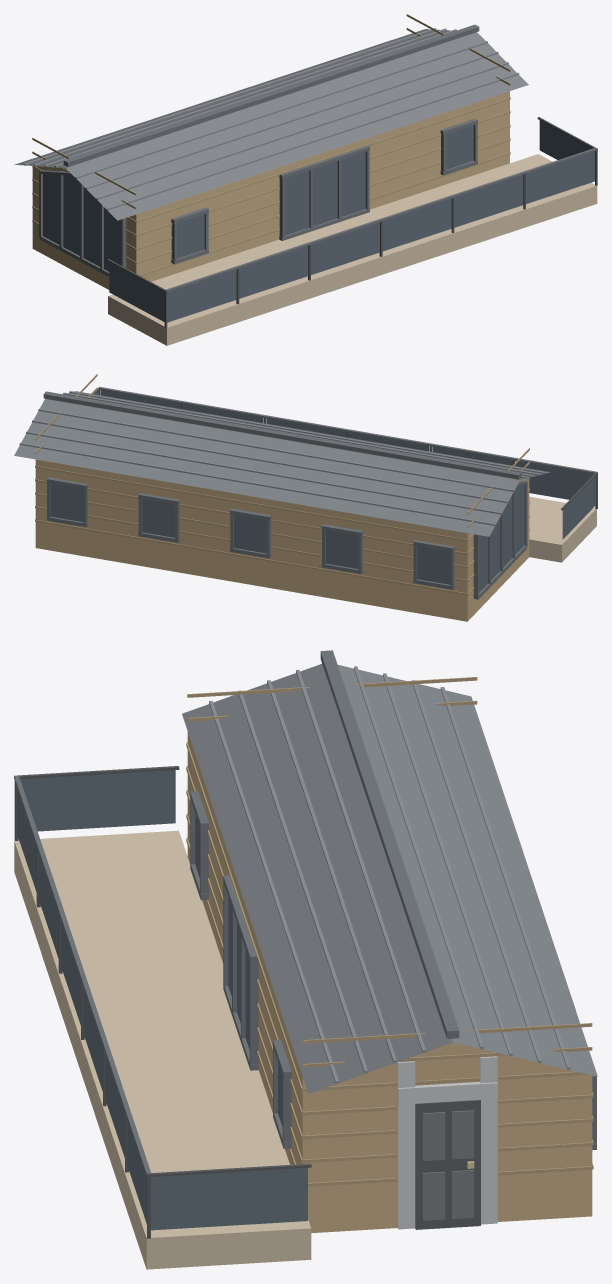
3 renders of one model, top to bottom at view 1: azimuth 30°, elevation 25°; view 2: azimuth 150°, elevation 25°; view 3: azimuth 270°, elevation 25°, orthographic. The views are drawn at different scales.
Visible parts, largest first — view 1: slate, door_wood, larch, slate_dk, slate_lt, window_glass_014, door_wood_p, window_glass_002, window_glass_005, window_glass_001, window_glass_004, window_glass_003 (+9 smaller); view 2: door_wood, slate, slate_dk, slate_lt, door_wood_p, larch, window_glass_014, window_glass_001, window_glass_015, window_glass_018, window_glass_016, window_glass_017 (+8 smaller); view 3: slate, larch, door_wood, slate_dk, slate_lt, door_wood_p, window_glass_008, window_glass_007, stone_band, door_dark_p, door_dark, pipe (+6 smaller).
Part boxes in pixels (left/top/right/bottom): slate: left=14, top=29, right=528, bottom=220; door_wood: left=32, top=91, right=509, bottom=289; larch: left=108, top=154, right=597, bottom=345; slate_dk: left=39, top=24, right=596, bottom=292; slate_lt: left=23, top=28, right=519, bottom=210; window_glass_014: left=43, top=174, right=120, bottom=271; door_wood_p: left=32, top=14, right=510, bottom=276; window_glass_002: left=239, top=246, right=308, bottom=298; window_glass_005: left=454, top=175, right=523, bottom=227; window_glass_001: left=167, top=269, right=236, bottom=322; window_glass_004: left=382, top=198, right=451, bottom=251; window_glass_003: left=311, top=222, right=379, bottom=274; door_wood: left=35, top=459, right=529, bottom=621; slate: left=14, top=391, right=550, bottom=536; slate_dk: left=43, top=387, right=596, bottom=599; slate_lt: left=19, top=391, right=545, bottom=525; door_wood_p: left=35, top=374, right=529, bottom=595; larch: left=529, top=496, right=596, bottom=562; window_glass_014: left=479, top=485, right=524, bottom=592; window_glass_001: left=515, top=461, right=593, bottom=499; window_glass_015: left=50, top=483, right=83, bottom=521; window_glass_018: left=325, top=530, right=358, bottom=568; window_glass_016: left=142, top=499, right=174, bottom=537; window_glass_017: left=234, top=514, right=266, bottom=553; slate: left=182, top=664, right=597, bottom=1093; larch: left=14, top=830, right=311, bottom=1269; door_wood: left=187, top=732, right=592, bottom=1233; slate_dk: left=14, top=650, right=596, bottom=1176; slate_lt: left=209, top=666, right=570, bottom=1083; door_wood_p: left=186, top=677, right=593, bottom=1186; window_glass_008: left=151, top=1167, right=307, bottom=1230; window_glass_007: left=20, top=770, right=175, bottom=831; stone_band: left=397, top=1056, right=497, bottom=1229; door_dark_p: left=422, top=1110, right=474, bottom=1220; door_dark: left=415, top=1100, right=480, bottom=1229; pipe: left=14, top=766, right=311, bottom=1238.
Size of the model in its own units: 14.23 by 3.37 by 8.43.
